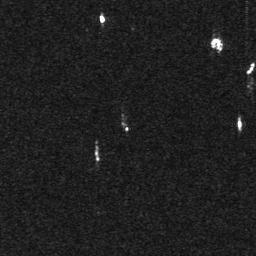ship: (246, 61, 256, 77), (237, 115, 243, 132), (97, 14, 107, 24)
